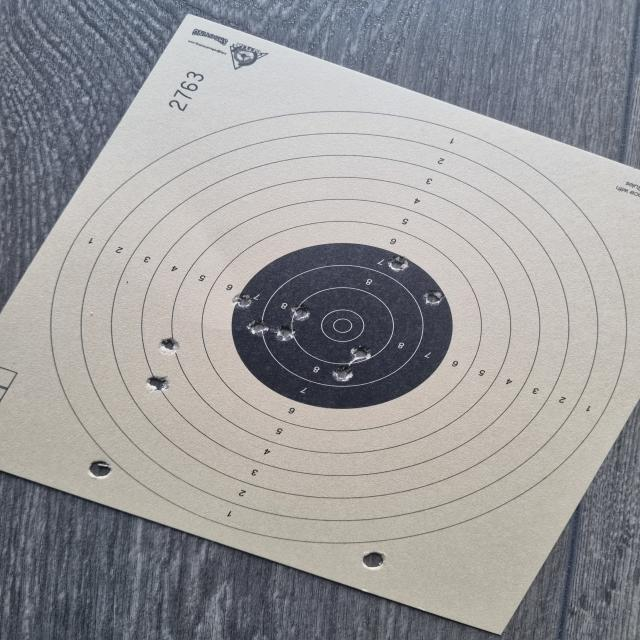10: (348, 346, 371, 366), (274, 324, 296, 342), (290, 305, 310, 321)
5: (146, 376, 170, 392)
6: (158, 338, 179, 352)
8: (423, 290, 444, 305), (232, 294, 252, 308), (388, 256, 408, 270)
9: (332, 366, 354, 382), (246, 320, 268, 334)
Black Contour: (230, 241, 454, 409)
Target: (52, 111, 622, 544)
